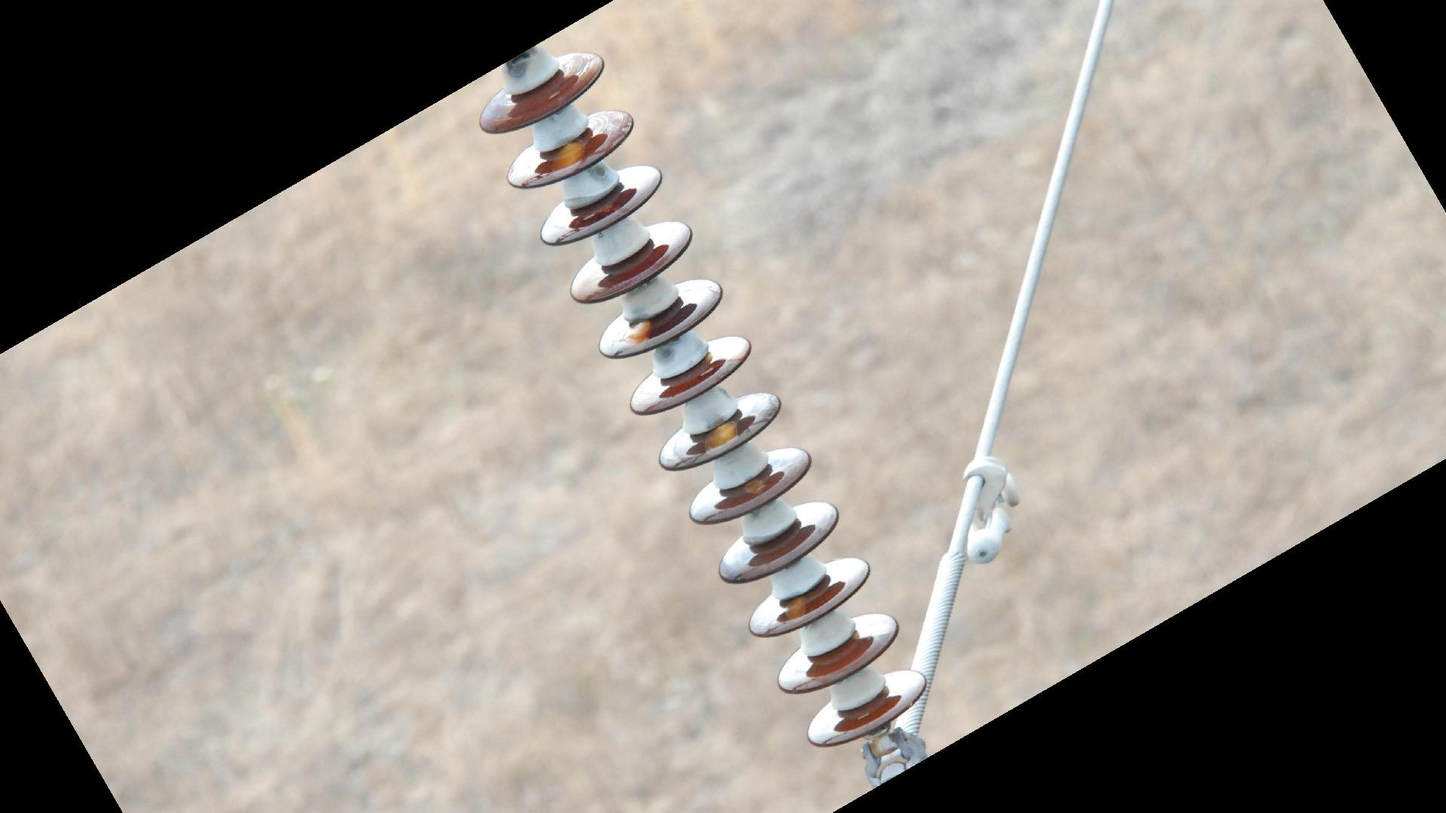insulator: (470, 45, 932, 751)
insulator_flashover: (701, 416, 743, 457), (551, 136, 589, 178), (618, 317, 653, 358), (782, 592, 810, 624)
